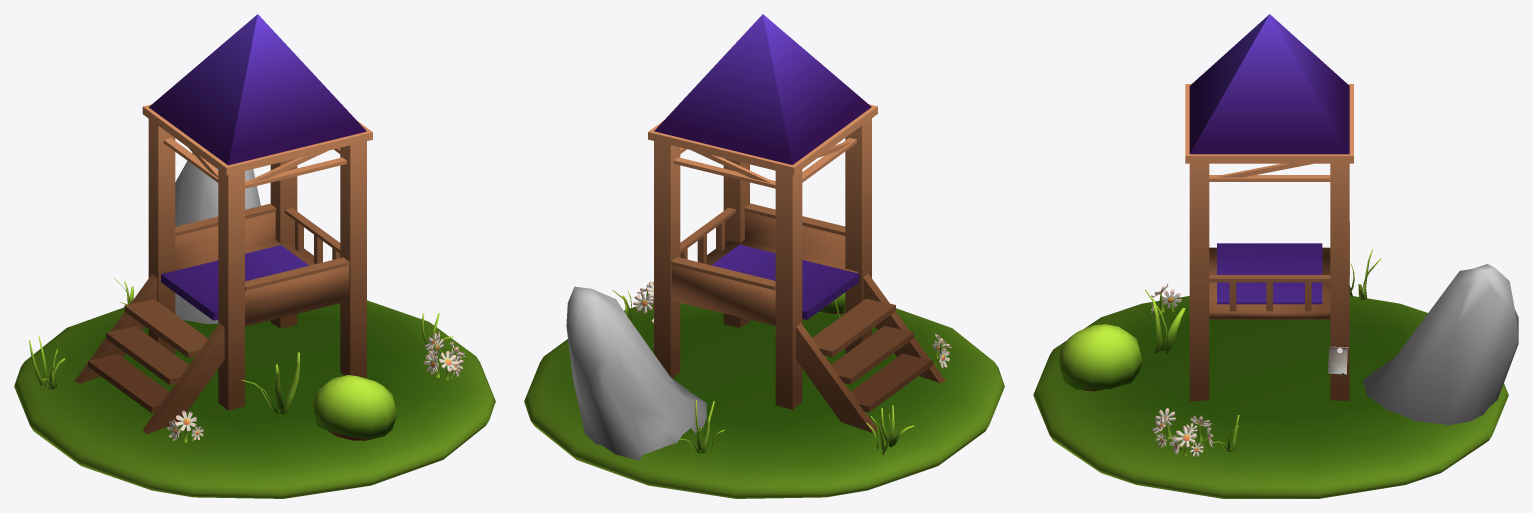
3 renders of one model, left to right at view 1: azimuth 30°, elevation 25°; view 2: azimuth 150°, elevation 25°; view 3: azimuth 270°, elevation 25°, orthographic.
Visible parts, largest first — view 1: Circle.001; view 2: Circle.001; view 3: Circle.001.
Boxes of the visible parts, x1,y1,x2,y2 form: Circle.001: [14, 14, 495, 498]; Circle.001: [524, 14, 1004, 498]; Circle.001: [1033, 14, 1518, 498].
Bounding box in the file's own units: 1.65 × 1.62 × 1.71.
3 materials, 3 textured.
